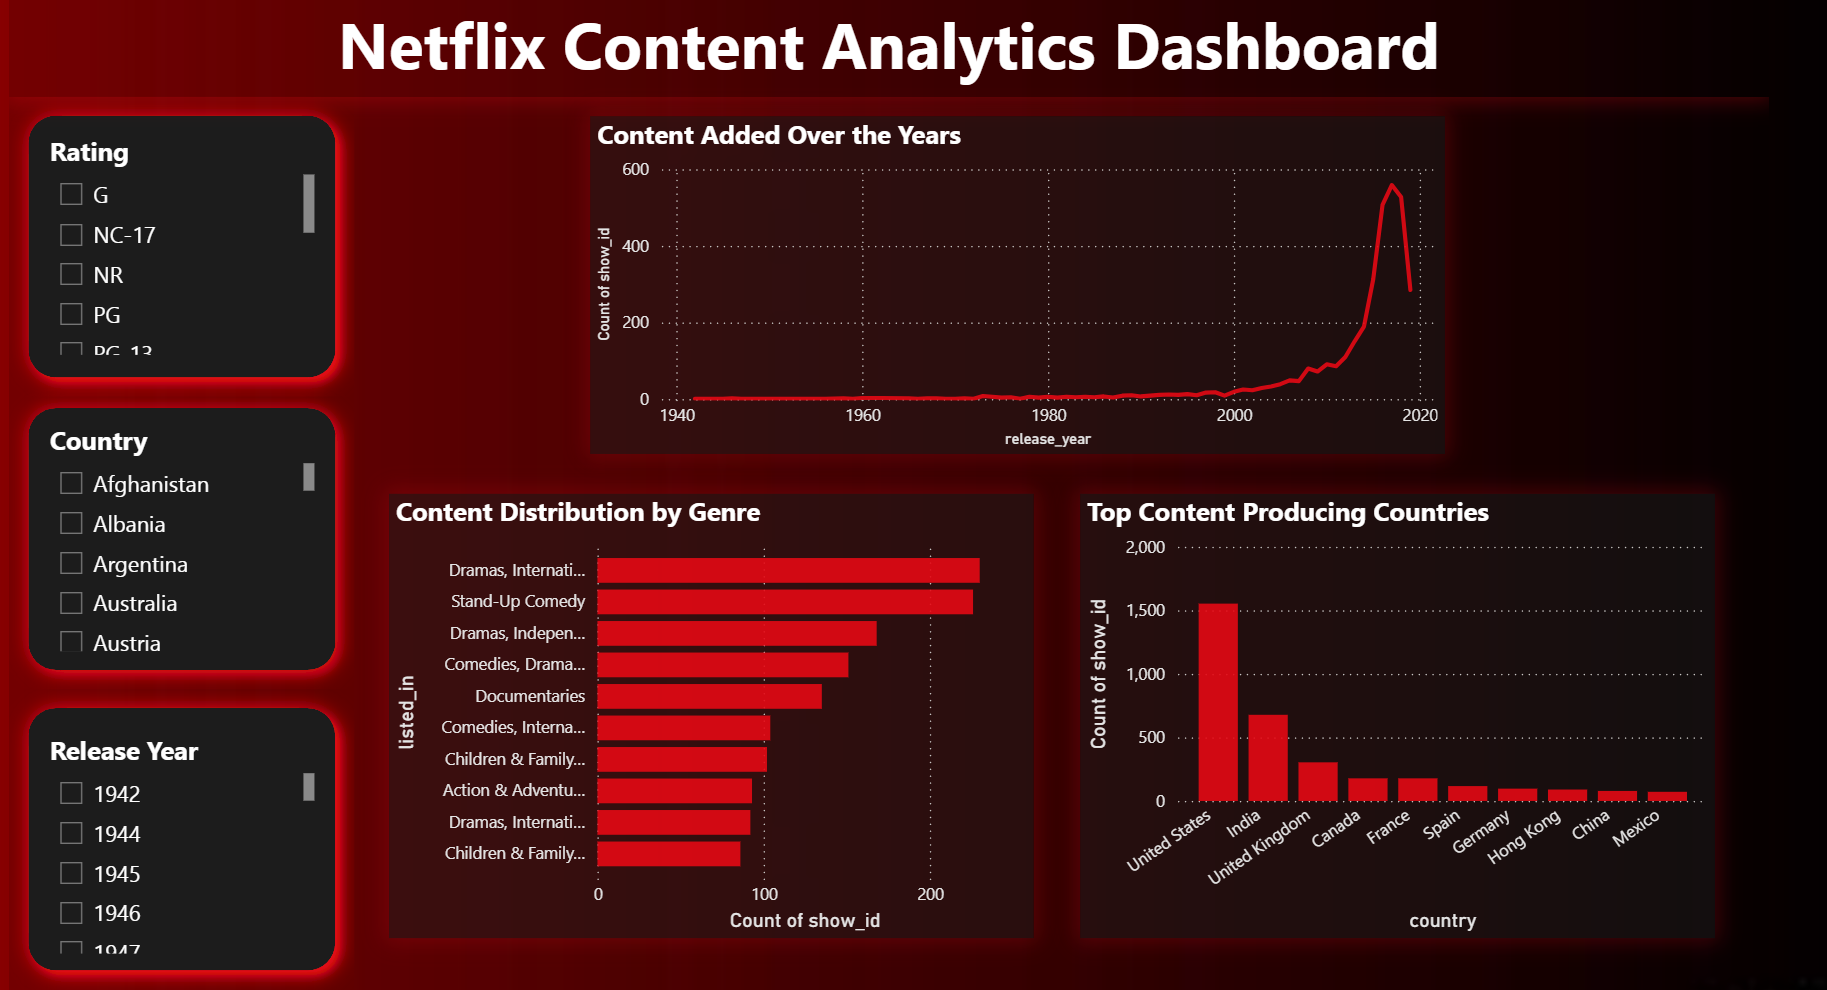

This screenshot's page, from the dashboard's own definition file:
{"tool":"powerbi","page":{"name":"Duplicate of Duplicate of Duplicate of Duplicate of Page 2","canvas":[1280,720],"ordinal":2},"visuals":[{"type":"shape","box":[0,0,1280,720.3],"z":0},{"type":"shape","box":[0,501.3,251.3,218.9],"z":1000},{"type":"shape","box":[0,282.9,251.4,218.6],"z":2000},{"type":"shape","box":[0,70,251.4,218.6],"z":3000},{"type":"slicer","title":"Release Year","fields":{"Values":["netflix_titles_nov_2019.release_year"]},"box":[24.3,532.9,202.9,165.7],"z":4000},{"type":"slicer","title":"Country","fields":{"Values":["netflix_titles_nov_2019.country"]},"box":[24.3,307.1,202.9,171.4],"z":5000},{"type":"slicer","title":"Rating","fields":{"Values":["netflix_titles_nov_2019.rating"]},"box":[24.3,97.1,202.9,165.7],"z":6000},{"type":"lineChart","title":"Content Added Over the Years","fields":{"Category":["netflix_titles_nov_2019.release_year"],"Y":["Count(netflix_titles_nov_2019.show_id)"]},"box":[422.9,84.3,621.4,245.7],"z":7000},{"type":"barChart","title":"Content Distribution by Genre","fields":{"Category":["netflix_titles_nov_2019.listed_in"],"Y":["Count(netflix_titles_nov_2019.show_id)"]},"box":[276.2,359.5,469,323.4],"z":8000},{"type":"columnChart","title":"Top Content Producing Countries","fields":{"Category":["netflix_titles_nov_2019.country"],"Y":["Count(netflix_titles_nov_2019.show_id)"]},"box":[778.7,359.5,461.5,323.4],"z":9000},{"type":"textbox","title":"Netflix Content Analytics Dashboard","box":[0,0,1280,70],"z":10000}]}

Visuals, with their boxes on the page's 1280x720 design canvas (x1, y1, x2, y2). These are canvas units, not pixel positions in the 1827x990 screenshot, which may show the page scaled, cropped or inside an application window:
shape: <bbox>0, 0, 1280, 720</bbox>
shape: <bbox>0, 501, 251, 720</bbox>
shape: <bbox>0, 283, 251, 502</bbox>
shape: <bbox>0, 70, 251, 289</bbox>
"Release Year" slicer: <bbox>24, 533, 227, 699</bbox>
"Country" slicer: <bbox>24, 307, 227, 478</bbox>
"Rating" slicer: <bbox>24, 97, 227, 263</bbox>
"Content Added Over the Years" lineChart: <bbox>423, 84, 1044, 330</bbox>
"Content Distribution by Genre" barChart: <bbox>276, 360, 745, 683</bbox>
"Top Content Producing Countries" columnChart: <bbox>779, 360, 1240, 683</bbox>
"Netflix Content Analytics Dashboard" textbox: <bbox>0, 0, 1280, 70</bbox>
